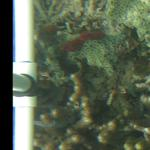alive: (21, 2, 147, 147)
